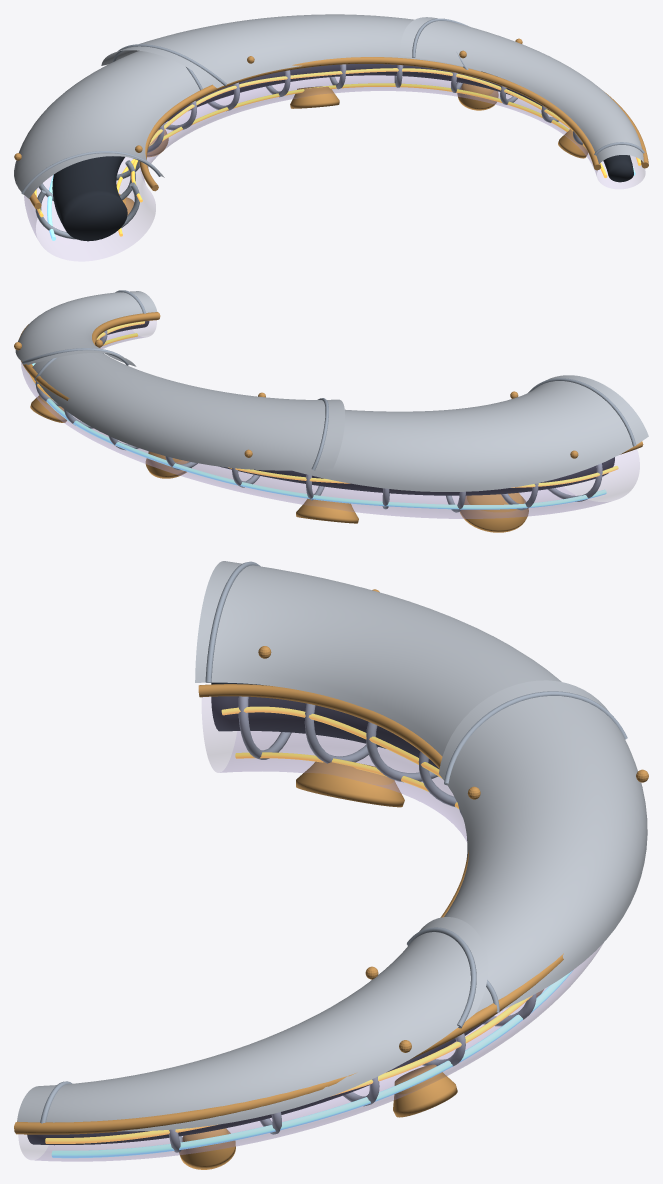
File: section.glb
The picture shows the model from 3 angles, top to bottom: view 1: azimuth 30°, elevation 25°; view 2: azimuth 150°, elevation 25°; view 3: azimuth 270°, elevation 25°; orthographic projection. The views are drawn at different scales.
Parts seen in each view (by area): view 1: Continuous translucent underside, Individually swept plate 1, Individually swept plate 2, Individually swept plate 3, Flexible graphite core, Continuous brass flange, Internal filament.003, Internal filament.002, Recessed machined sucker.002, Recessed machined sucker.003, Recessed rib, Polished plate lip (+3 smaller); view 2: Individually swept plate 1, Individually swept plate 2, Continuous translucent underside, Individually swept plate 3, Internal filament.001, Flexible graphite core, Recessed machined sucker, Recessed machined sucker.001, Internal filament, Continuous brass flange, Recessed machined sucker.002, Polished plate lip (+4 smaller); view 3: Individually swept plate 2, Individually swept plate 1, Individually swept plate 3, Continuous translucent underside, Flexible graphite core, Continuous brass flange.001, Internal filament.001, Continuous brass flange, Recessed machined sucker, Internal filament, Recessed machined sucker.003, Recessed machined sucker.004 (+8 smaller).
Part boxes in pixels (<box>): Continuous translucent underside: <box>24,64,645,261</box>; Individually swept plate 1: <box>14,50,211,198</box>; Individually swept plate 2: <box>101,14,480,88</box>; Individually swept plate 3: <box>400,17,643,163</box>; Flexible graphite core: <box>52,64,633,241</box>; Continuous brass flange: <box>139,57,601,191</box>; Internal filament.003: <box>131,68,600,202</box>; Internal filament.002: <box>116,83,607,236</box>; Recessed machined sucker.002: <box>290,86,339,108</box>; Recessed machined sucker.003: <box>457,83,498,110</box>; Recessed rib: <box>35,182,139,239</box>; Polished plate lip: <box>21,151,160,194</box>; Individually swept plate 1: <box>291,375,648,491</box>; Individually swept plate 2: <box>32,353,345,470</box>; Continuous translucent underside: <box>21,320,639,518</box>; Individually swept plate 3: <box>15,291,157,366</box>; Internal filament.001: <box>32,363,606,509</box>; Flexible graphite core: <box>107,321,614,495</box>; Recessed machined sucker: <box>460,492,528,532</box>; Recessed machined sucker.001: <box>296,498,358,523</box>; Internal filament: <box>30,375,618,487</box>; Continuous brass flange: <box>92,312,160,344</box>; Recessed machined sucker.002: <box>145,451,188,478</box>; Polished plate lip: <box>528,378,636,446</box>; Individually swept plate 2: <box>439,680,647,1012</box>; Individually swept plate 1: <box>195,561,561,756</box>; Individually swept plate 3: <box>17,917,488,1131</box>; Continuous translucent underside: <box>18,696,602,1161</box>; Flexible graphite core: <box>27,682,494,1145</box>; Continuous brass flange.001: <box>14,953,563,1134</box>; Internal filament.001: <box>51,970,573,1158</box>; Continuous brass flange: <box>198,684,469,917</box>; Recessed machined sucker: <box>296,761,404,807</box>; Internal filament: <box>45,995,532,1143</box>; Recessed machined sucker.003: <box>393,1064,457,1117</box>; Recessed machined sucker.004: <box>179,1128,235,1169</box>.
Size of the model in its own units: 4.34 by 0.867 by 2.44.
